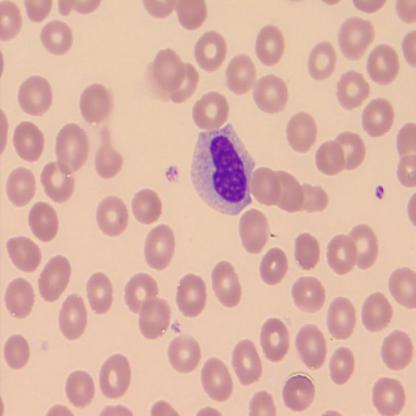Metamyelocyte: (189, 118, 257, 218)
